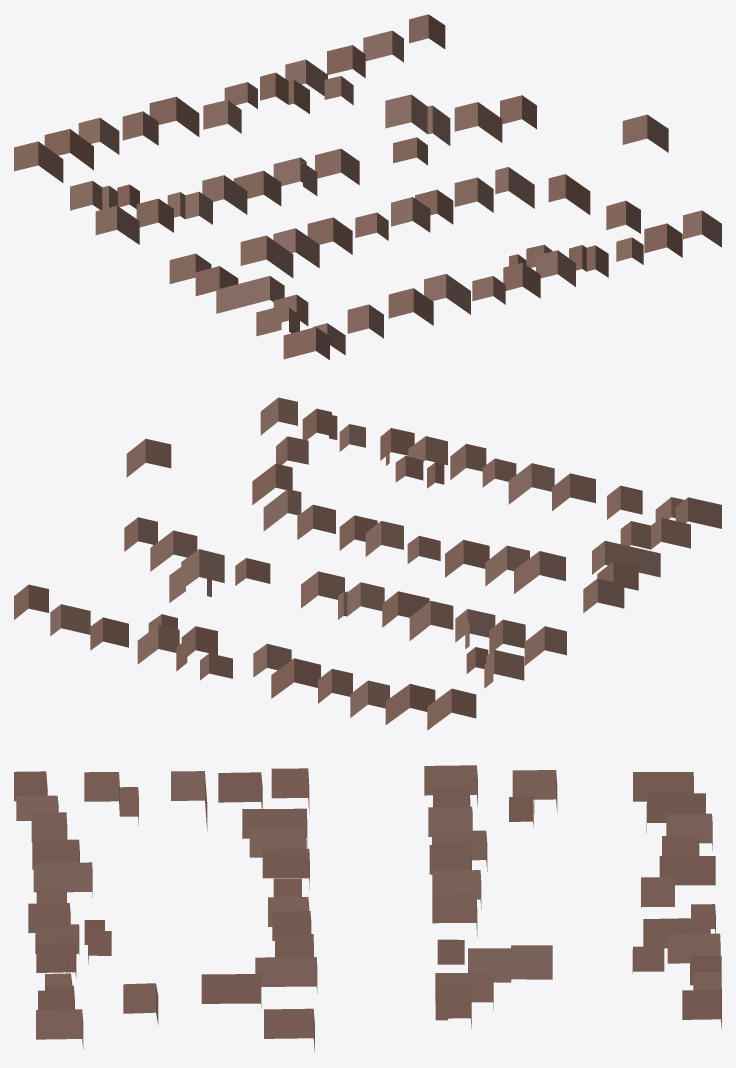
Rendered from c_1637_17821_buildings_residential.glb.
The picture shows the model from 3 angles, top to bottom: view 1: azimuth 30°, elevation 25°; view 2: azimuth 150°, elevation 25°; view 3: azimuth 270°, elevation 25°; orthographic projection. The views are drawn at different scales.
Parts seen in each view (by area): view 1: geometry_0; view 2: geometry_0; view 3: geometry_0.
Part boxes in pixels (box(x1,y1,x2,y2)): geometry_0: box(14, 14, 721, 359); geometry_0: box(14, 397, 721, 730); geometry_0: box(14, 765, 721, 1052).
Bounding box in the file's own units: 201 × 20.99 × 206.
